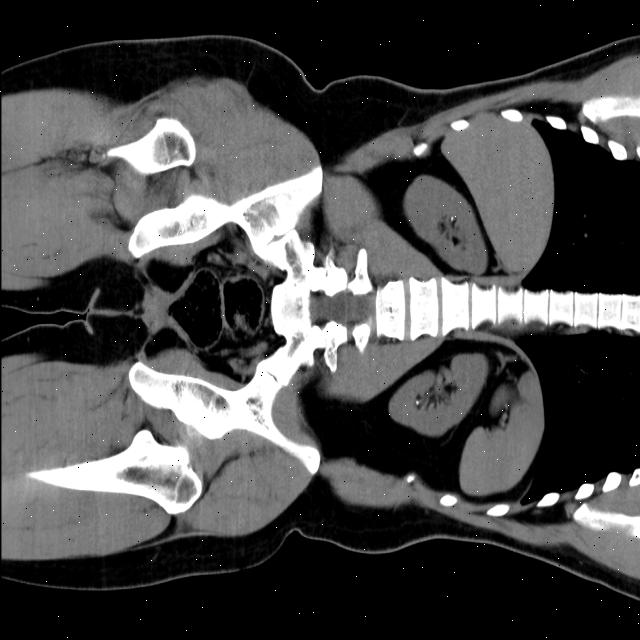kidneystone: (415, 395, 424, 409), (451, 215, 455, 220)
